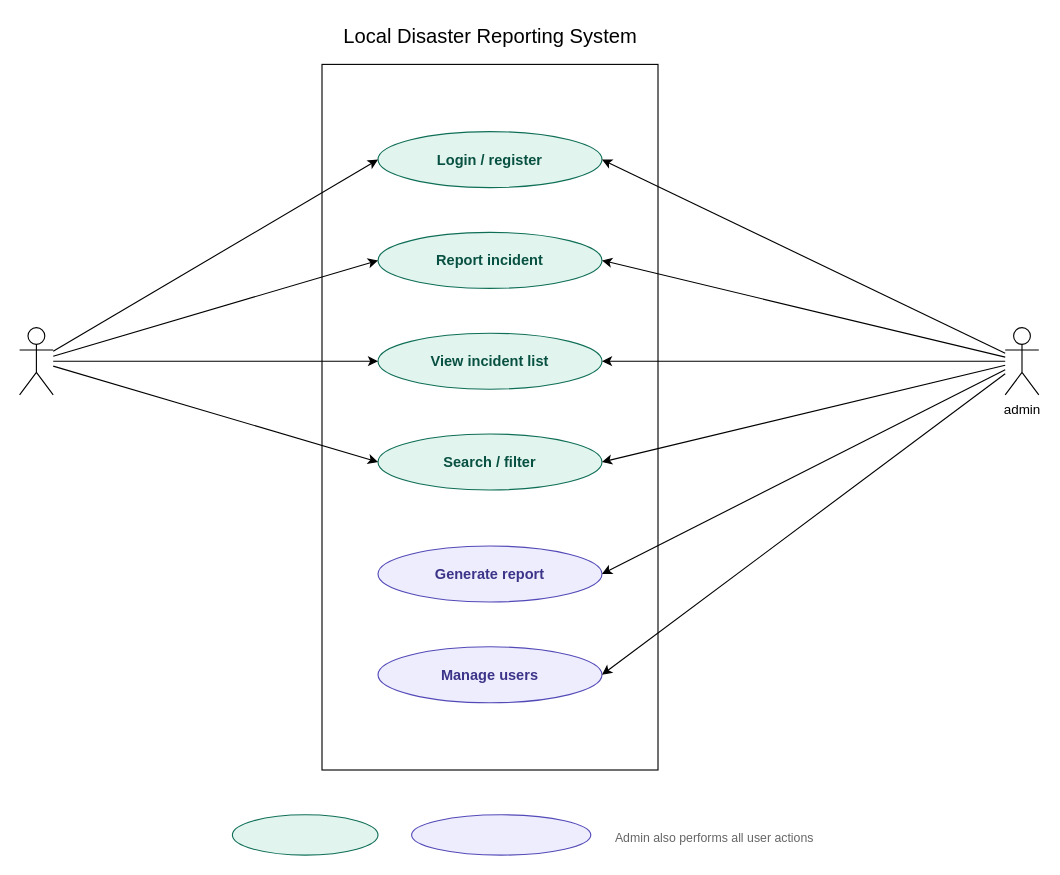
Some shapes in this 1060 by 875 pixel diagram are drawn without their labels. The shapes that lost their labels are listed below. From the top down, each one's centre as x and y in pixels, then its label:
point 35,360: User
point 304,834: User actions
point 500,834: Admin-only actions
